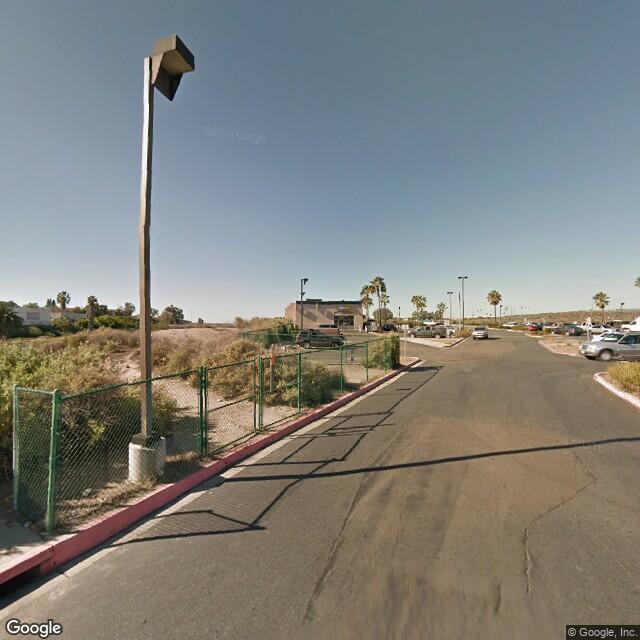litter: (80, 487, 94, 498)
